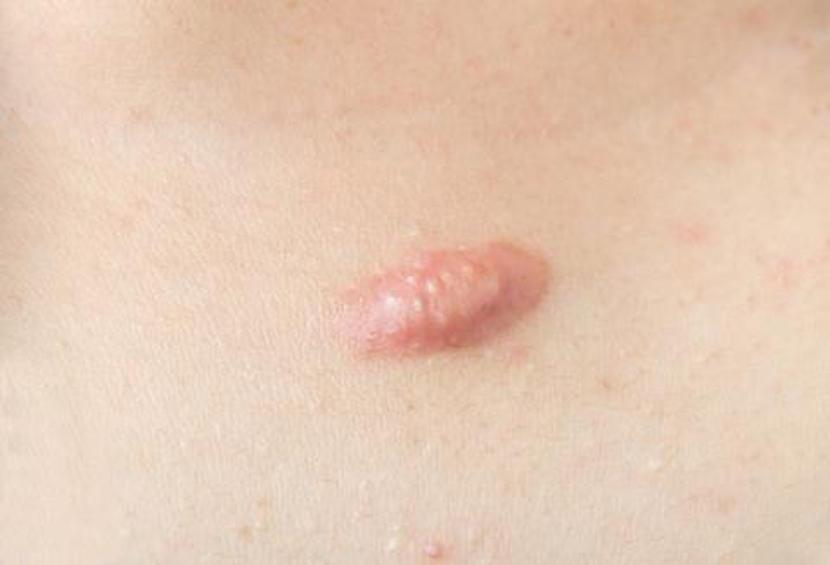keloid: (337, 238, 555, 358)
